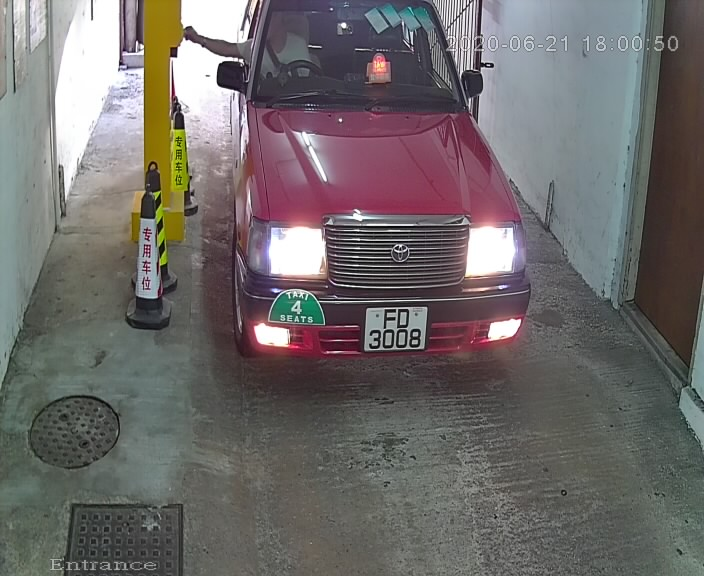taxi: (188, 2, 570, 392)
taxi_mark: (261, 273, 343, 343)
